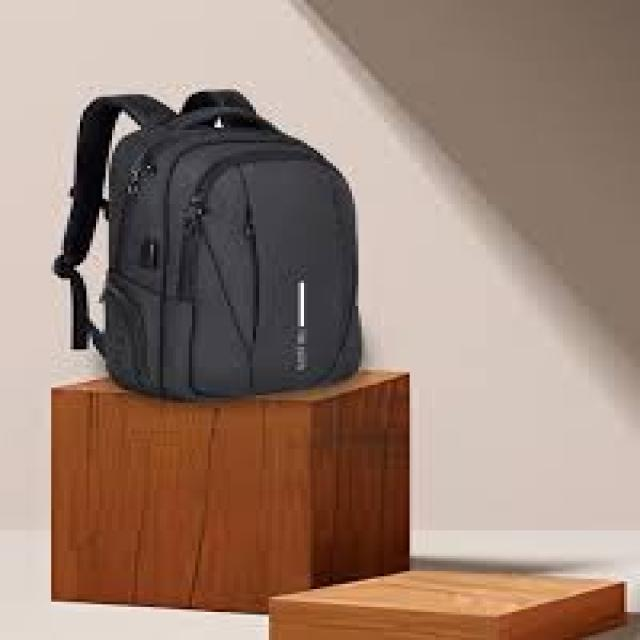backpack: (52, 88, 363, 401)
